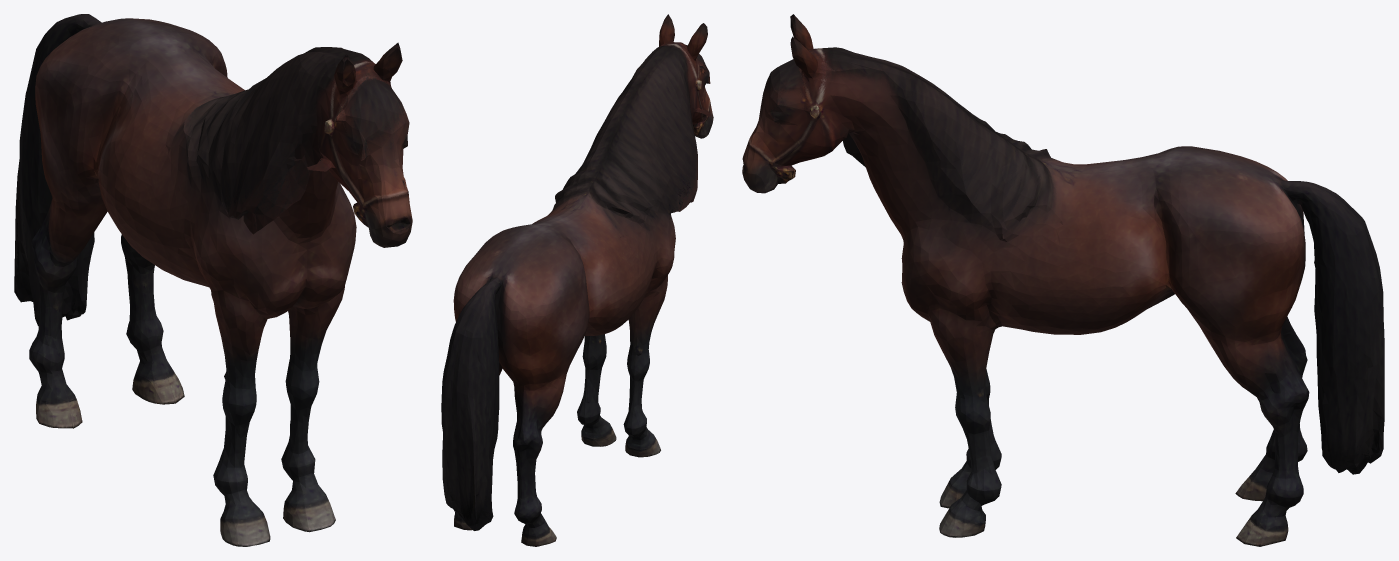
File: horse.glb
The picture shows the model from 3 angles, left to right: view 1: azimuth 30°, elevation 25°; view 2: azimuth 150°, elevation 25°; view 3: azimuth 270°, elevation 25°; orthographic projection. The views are drawn at different scales.
Parts seen in each view (by area): view 1: world; view 2: world; view 3: world.
Boxes of the visible parts, left/top/right/bottom form: world: left=14, top=14, right=412, bottom=546; world: left=441, top=14, right=713, bottom=546; world: left=742, top=14, right=1384, bottom=546.
Size of the model in its own units: 0.2774 by 0.8425 by 1.
Materials: 1 (1 with a texture image).
